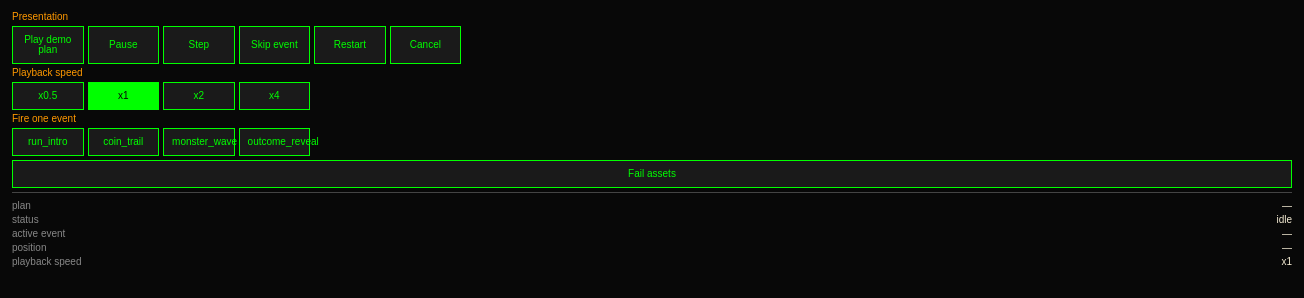
PresentationSection › plays the demo plan and shows the active event, position and log
The width and height of the screenshot is (1304, 298).
Click the button "Play demo plan": point(48, 45) [12,26,84,64]
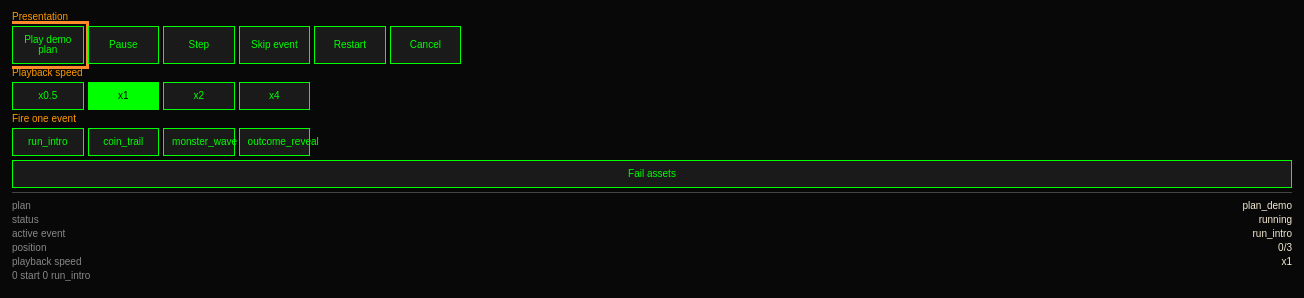
Expected: the text "plan_demo" is shown, [1242,201,1292,211]
Expected: the text with test id "presentation-plan" reads "plan_demo", [1242,200,1292,211]
Expected: the text with test id "presentation-active" reads "run_intro", [1252,228,1292,239]
